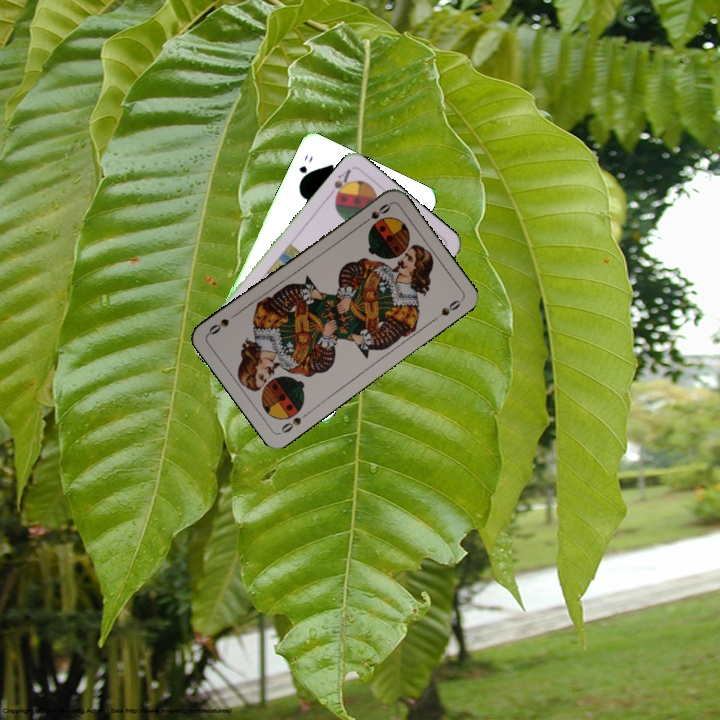GO: (295, 150, 316, 186)
SA: (324, 165, 354, 203)
SO: (357, 199, 393, 228), (277, 408, 312, 436)
